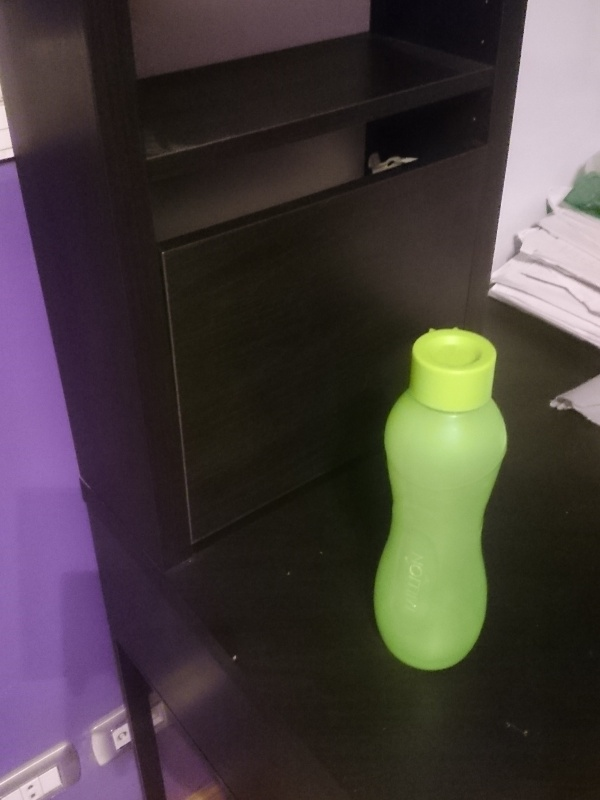my bottle: (370, 330, 507, 669)
